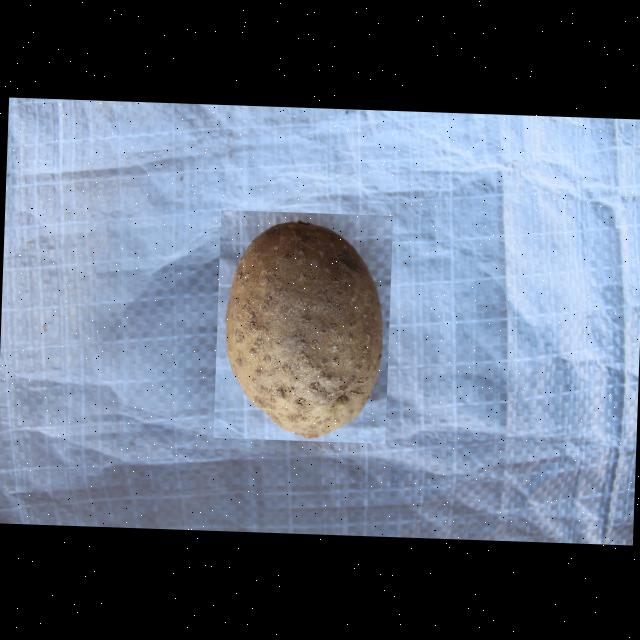Diseased-fungal potato: (212, 208, 392, 442)
